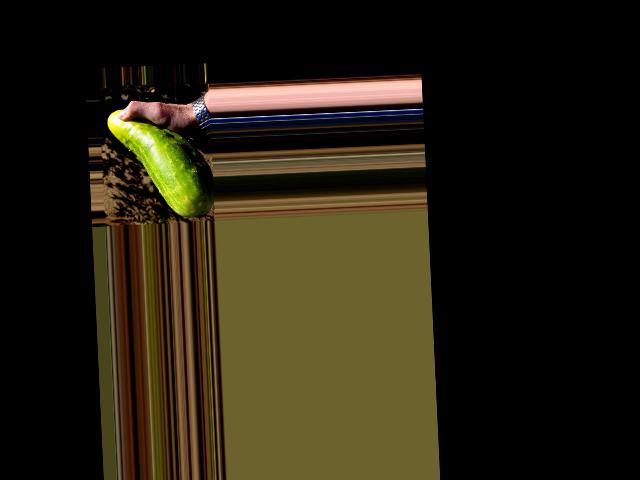cucumber: (107, 105, 216, 222)
